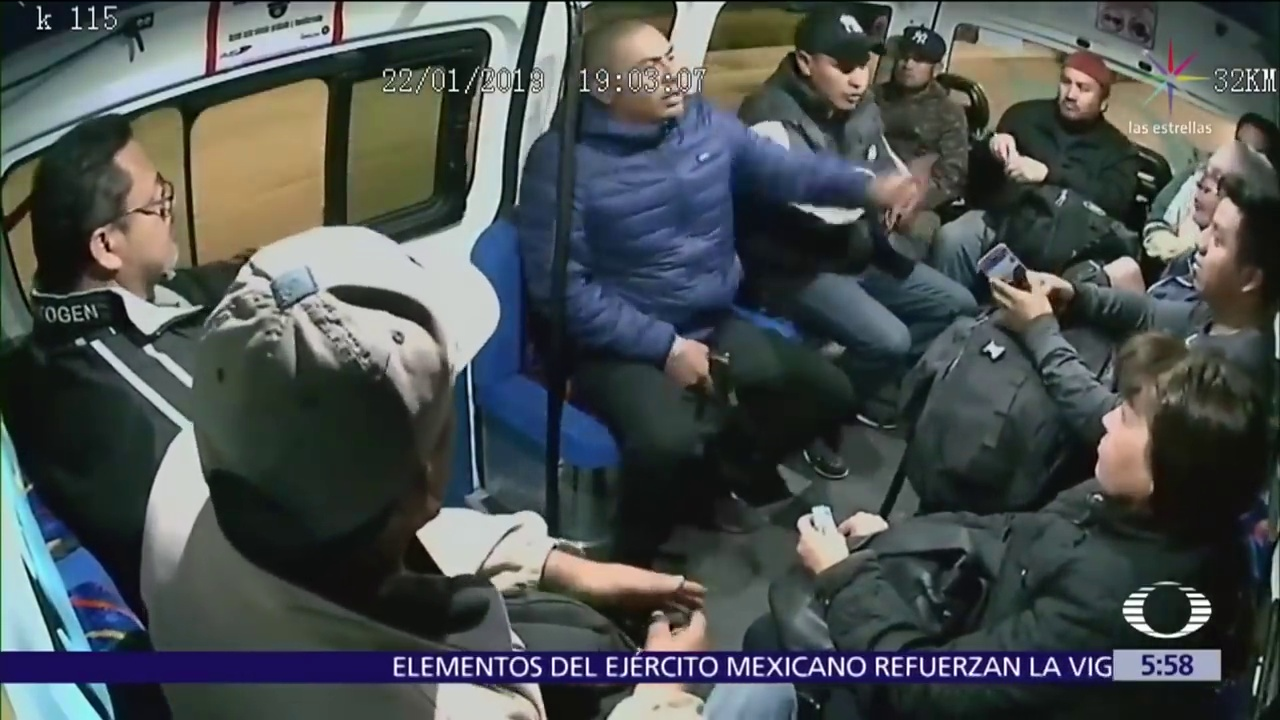pistol: (683, 352, 745, 416)
